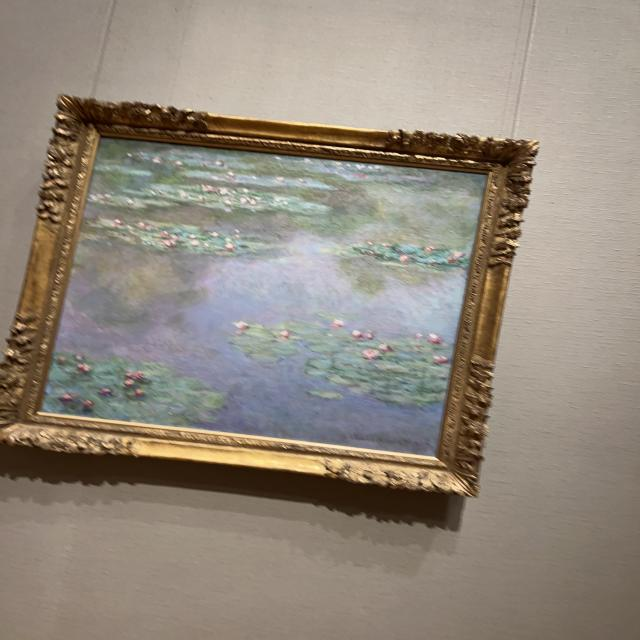lilies: (42, 140, 485, 453)
